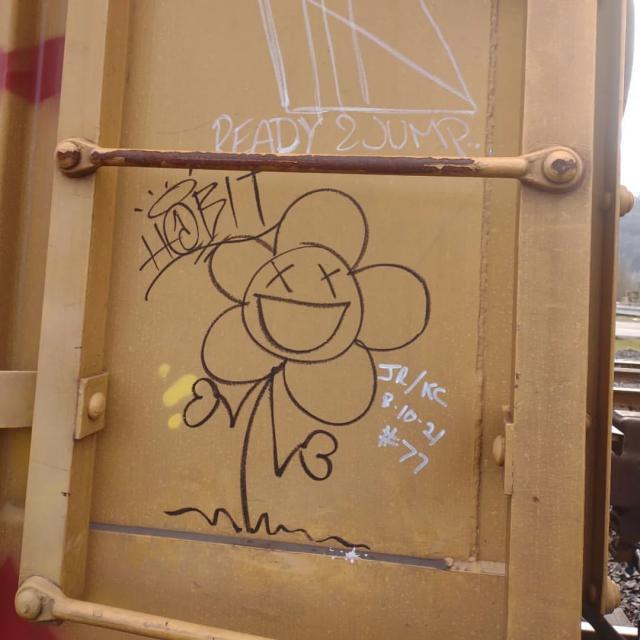nonspitting: (132, 166, 432, 548), (214, 0, 480, 156), (376, 360, 444, 472)
